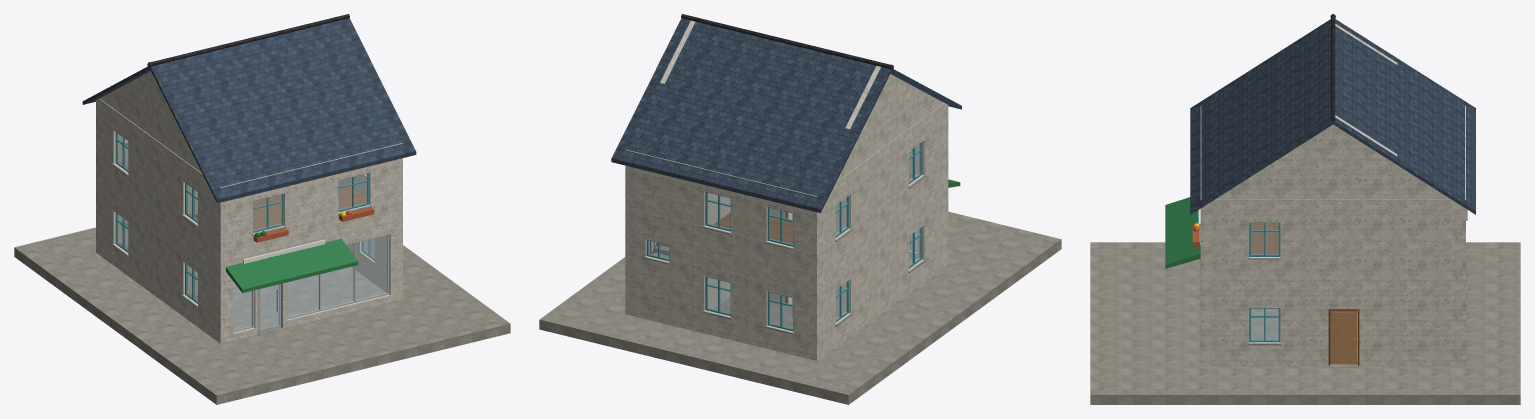
File: b_florist_petal.gltf
3 renders of one model, left to right at view 1: azimuth 30°, elevation 25°; view 2: azimuth 150°, elevation 25°; view 3: azimuth 270°, elevation 25°, orthographic. The views are drawn at different scales.
Parts seen in each view (by area): view 1: S_florist_petal, D_florist_petal_F1_S2_Door0; view 2: S_florist_petal; view 3: S_florist_petal, D_florist_petal_F1_E1_Door0.
Part boxes in pixels (x1=…): S_florist_petal: x1=14, y1=14, x2=510, y2=404; D_florist_petal_F1_S2_Door0: x1=260, y1=284, x2=280, y2=332; S_florist_petal: x1=539, y1=14, x2=1061, y2=404; S_florist_petal: x1=1090, y1=14, x2=1520, y2=404; D_florist_petal_F1_E1_Door0: x1=1330, y1=310, x2=1357, y2=364.
Size of the model in its own units: 13 by 10.45 by 15.5.
25 materials, 14 textured.
